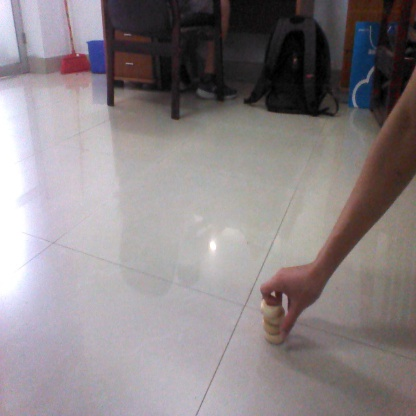chess: (257, 298, 288, 343)
